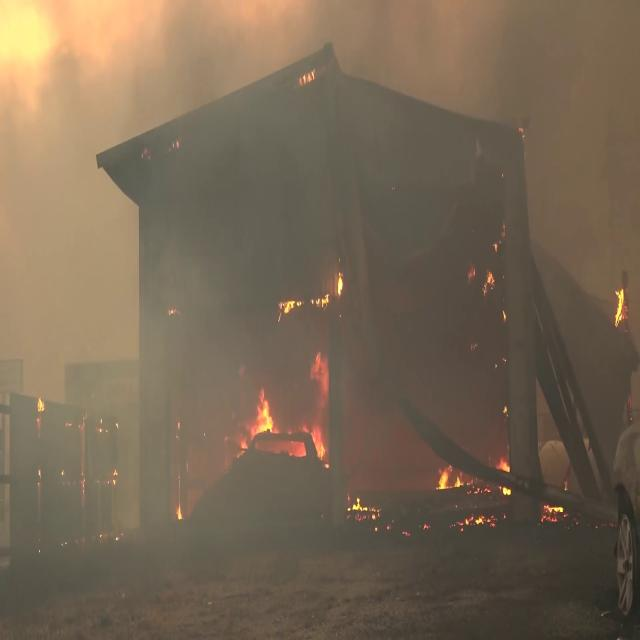fire: (255, 369, 332, 451)
